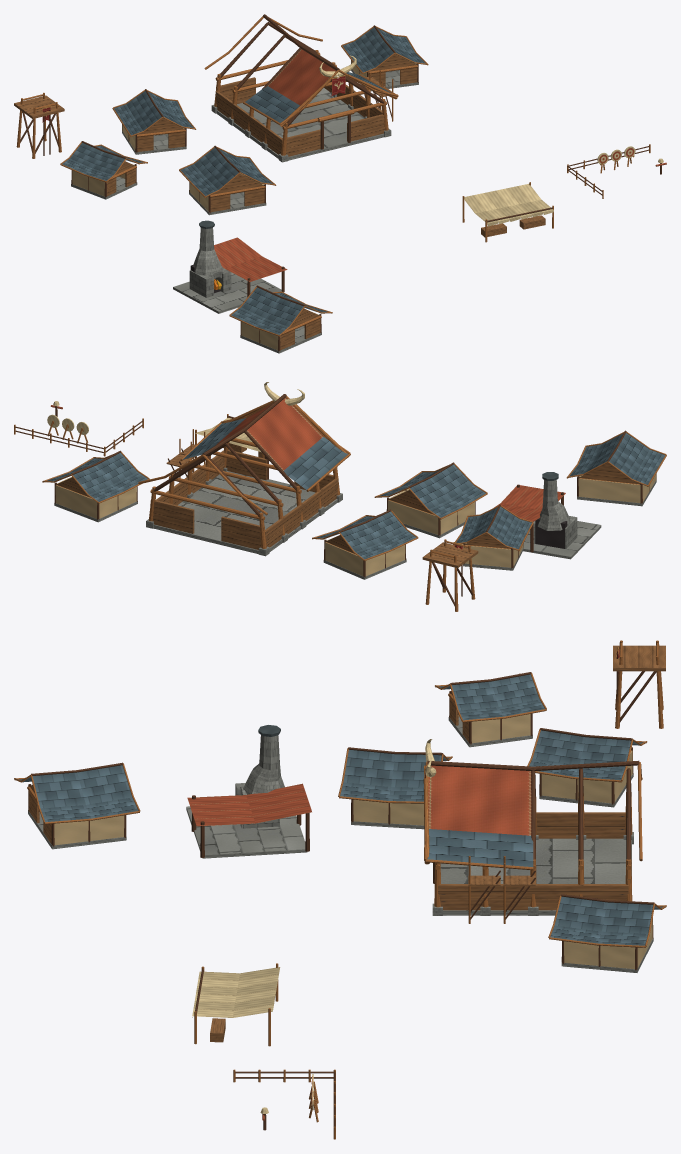
File: phase_2_lod1.glb
3 views of the same model, one above another, from view 1: azimuth 30°, elevation 25°; view 2: azimuth 150°, elevation 25°; view 3: azimuth 270°, elevation 25° (orthographic). The views are drawn at different scales.
Parts seen in each view (by area): view 1: hall_LOD1_F2, forge_LOD1_F2, store_LOD1_F2, workshop_LOD1_F2, house_a_LOD1_F2, house_c_LOD1_F2, house_b_LOD1_F2, market_LOD1_F2, tower_LOD1_F2, training_LOD1_F2; view 2: hall_LOD1_F2, workshop_LOD1_F2, store_LOD1_F2, house_c_LOD1_F2, house_a_LOD1_F2, forge_LOD1_F2, house_b_LOD1_F2, tower_LOD1_F2, training_LOD1_F2, market_LOD1_F2; view 3: hall_LOD1_F2, forge_LOD1_F2, workshop_LOD1_F2, house_c_LOD1_F2, store_LOD1_F2, house_a_LOD1_F2, house_b_LOD1_F2, market_LOD1_F2, tower_LOD1_F2, training_LOD1_F2.
Part boxes in pixels (bbox=[...]): hall_LOD1_F2: bbox=[204, 14, 398, 162]; forge_LOD1_F2: bbox=[173, 220, 287, 313]; store_LOD1_F2: bbox=[179, 145, 276, 215]; workshop_LOD1_F2: bbox=[229, 285, 332, 353]; house_a_LOD1_F2: bbox=[112, 89, 196, 154]; house_c_LOD1_F2: bbox=[341, 25, 428, 91]; house_b_LOD1_F2: bbox=[60, 141, 147, 199]; market_LOD1_F2: bbox=[462, 182, 553, 242]; tower_LOD1_F2: bbox=[14, 92, 64, 158]; training_LOD1_F2: bbox=[567, 144, 666, 198]; hall_LOD1_F2: bbox=[138, 382, 350, 556]; workshop_LOD1_F2: bbox=[566, 430, 666, 506]; store_LOD1_F2: bbox=[374, 462, 487, 538]; house_c_LOD1_F2: bbox=[42, 450, 149, 522]; house_a_LOD1_F2: bbox=[312, 509, 418, 579]; forge_LOD1_F2: bbox=[494, 472, 601, 559]; house_b_LOD1_F2: bbox=[453, 504, 533, 570]; tower_LOD1_F2: bbox=[422, 539, 478, 611]; training_LOD1_F2: bbox=[14, 401, 143, 456]; market_LOD1_F2: bbox=[195, 414, 265, 458]; hall_LOD1_F2: bbox=[423, 739, 642, 923]; forge_LOD1_F2: bbox=[186, 725, 311, 858]; workshop_LOD1_F2: bbox=[14, 762, 140, 849]; house_c_LOD1_F2: bbox=[548, 894, 666, 972]; store_LOD1_F2: bbox=[338, 747, 452, 829]; house_a_LOD1_F2: bbox=[527, 728, 647, 807]; house_b_LOD1_F2: bbox=[435, 672, 546, 747]; market_LOD1_F2: bbox=[192, 963, 280, 1046]; tower_LOD1_F2: bbox=[613, 640, 665, 728]; training_LOD1_F2: bbox=[233, 1069, 335, 1139].
Size of what is drawn, in the model's own units: 81.74 by 21.24 by 61.56.
Materials: 1 (1 with a texture image).
